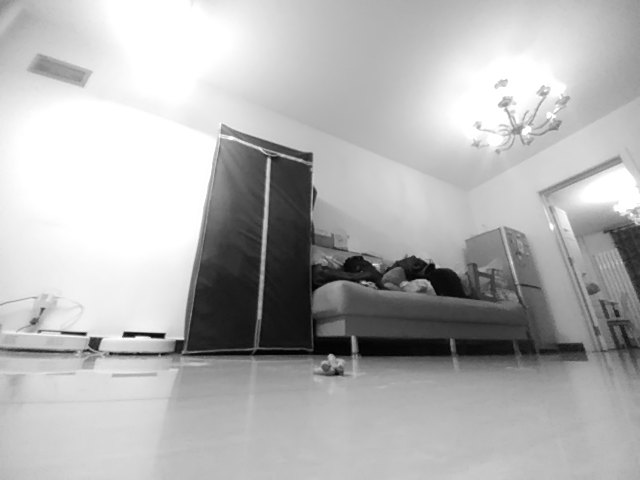pet feces: (312, 350, 346, 377)
